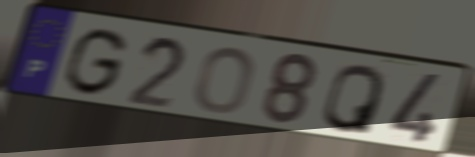2: (123, 34, 192, 110)
4: (384, 71, 444, 146)
8: (261, 52, 317, 127)
G: (61, 26, 130, 99)
O: (192, 45, 258, 116)
Q: (319, 62, 387, 137)
